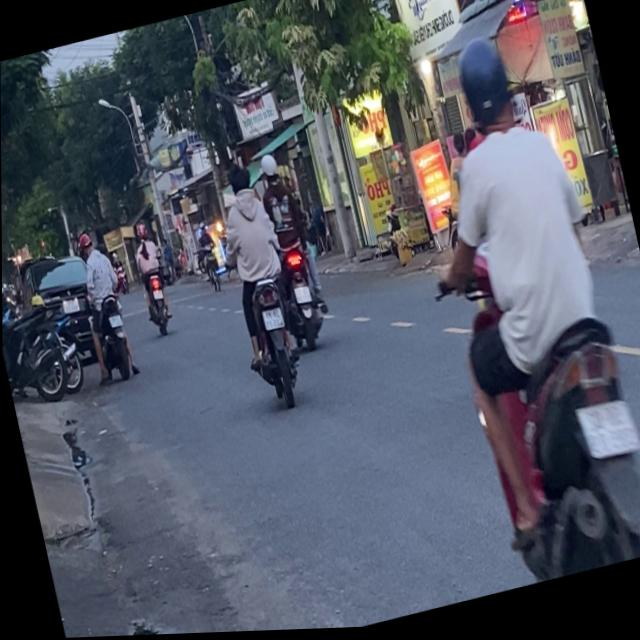helmet: (448, 33, 524, 146), (258, 153, 282, 187), (75, 230, 95, 257)
licenseplate: (386, 17, 640, 594), (204, 156, 314, 414), (250, 145, 337, 356), (67, 224, 141, 387)
motorcyclist: (225, 162, 254, 200)
nohelmet: (576, 400, 640, 464), (261, 308, 283, 331), (294, 285, 311, 305), (108, 313, 122, 328)
